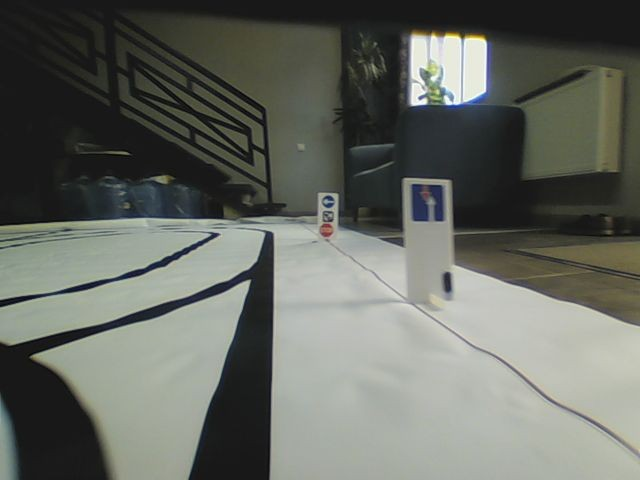priority_movement: (408, 181, 448, 225)
